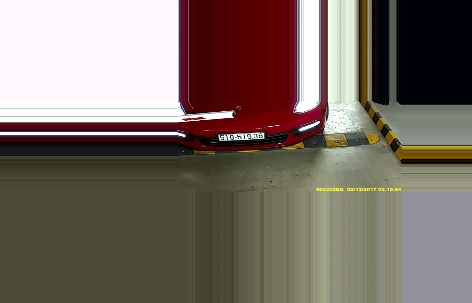plate: (214, 132, 266, 144)
